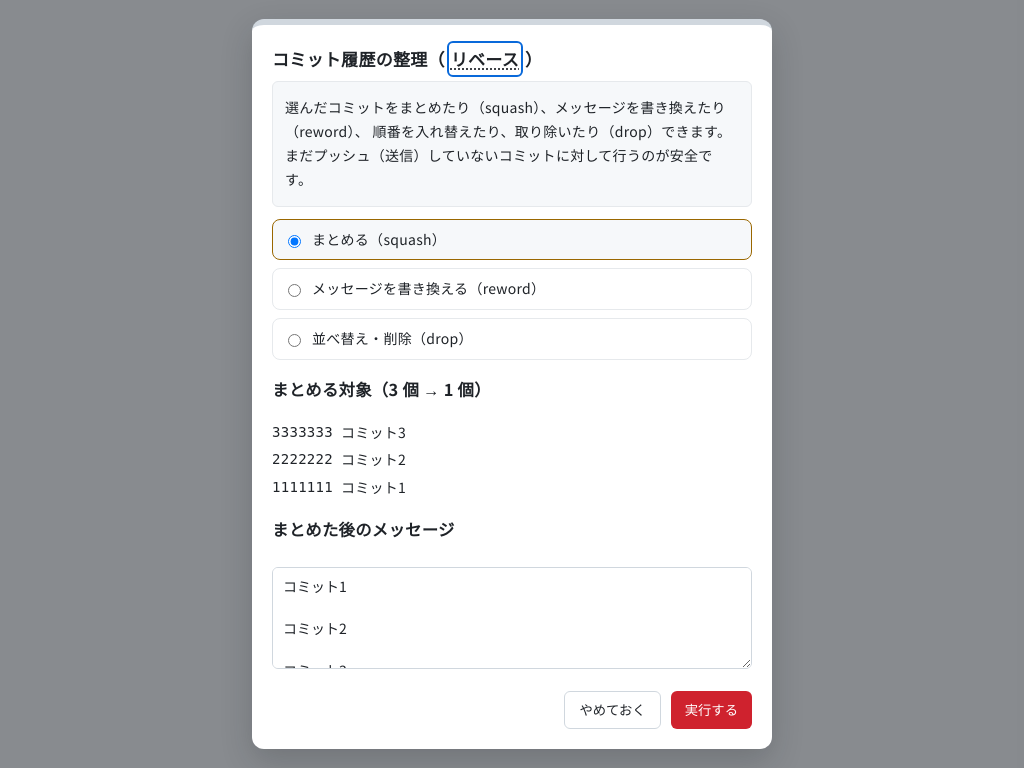
RebaseWizard 並べ替え・削除モード › core が不正と判断したプランは理由を表示して実行できない
Click the radio button labelled "並べ替え・削除（drop）": (294, 341) [288,334,301,347]
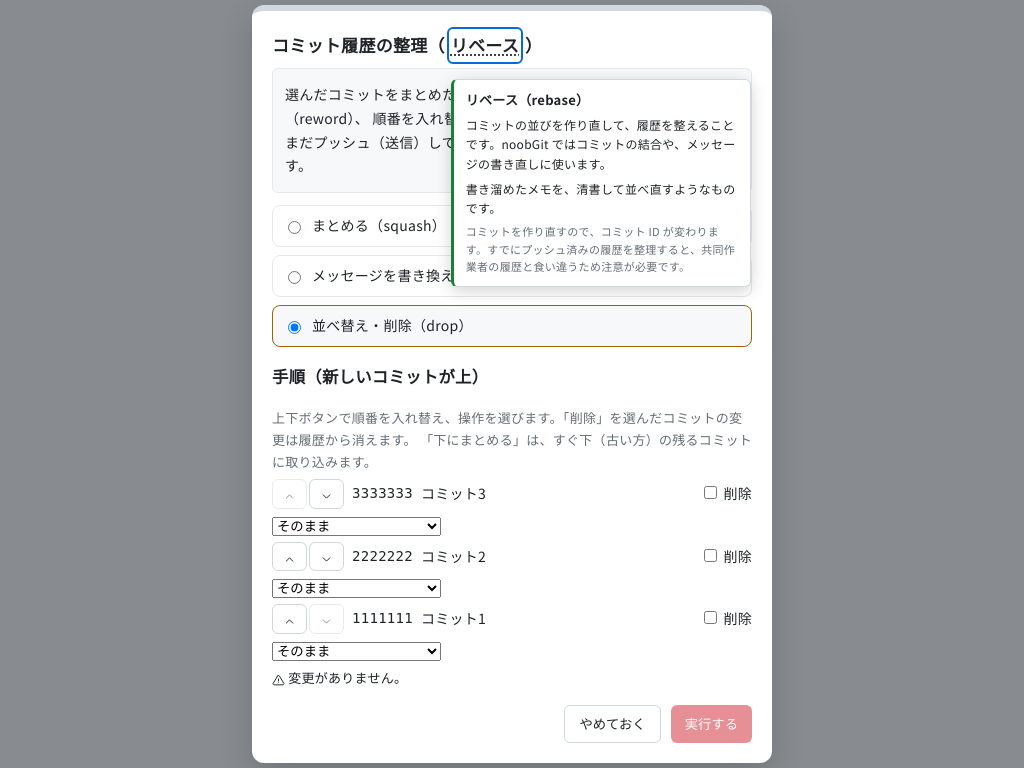
Expected: the message "変更がありません。" is shown, [272,668,407,687]
Expected: the message shows "変更がありません", [288,668,407,687]
Expected: the button "実行する" is disabled, [671,705,752,743]
